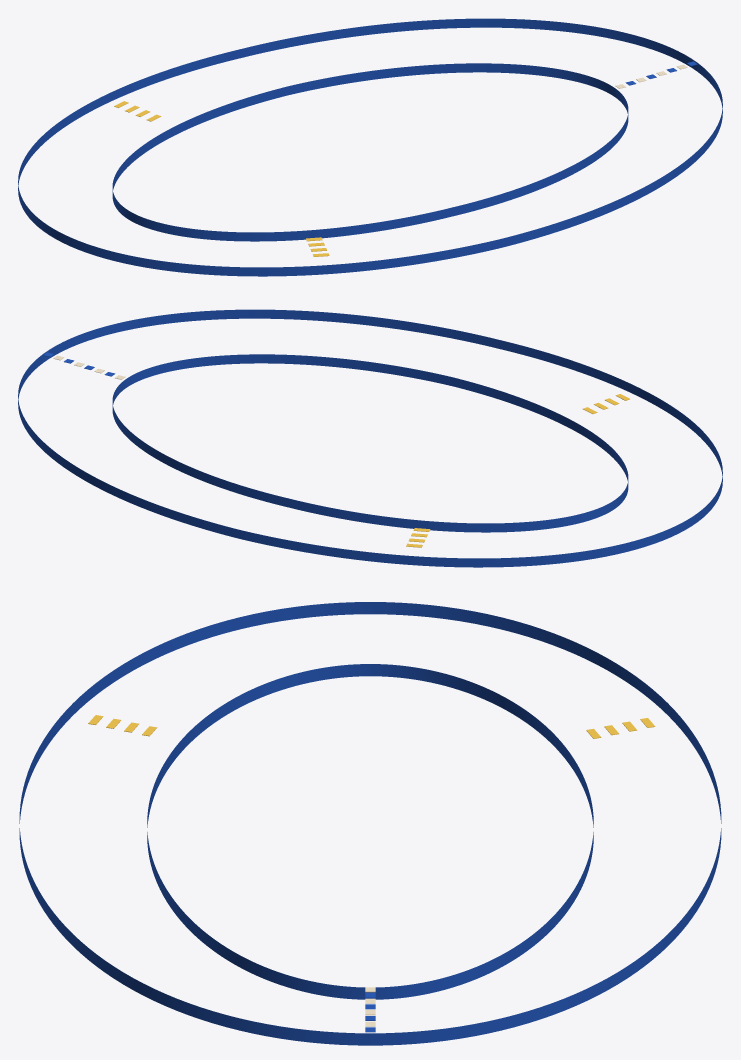
The model's file is track_oval.glb.
3 views of the same model, one above another, from view 1: azimuth 30°, elevation 25°; view 2: azimuth 150°, elevation 25°; view 3: azimuth 270°, elevation 25° (orthographic). The views are drawn at different scales.
Visible parts, largest first — view 1: OuterSide, InnerSide; view 2: OuterSide, InnerSide; view 3: OuterSide, InnerSide.
Part boxes in pixels (bbox=[...]): OuterSide: bbox=[18, 18, 722, 276]; InnerSide: bbox=[112, 63, 628, 241]; OuterSide: bbox=[18, 309, 722, 567]; InnerSide: bbox=[112, 354, 628, 532]; OuterSide: bbox=[19, 602, 721, 1045]; InnerSide: bbox=[147, 664, 593, 999].
Size of the model in its own units: 64.7 by 1.63 by 44.7.
